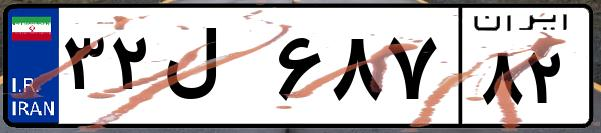2: (525, 38, 570, 115), (110, 28, 158, 98)
3: (57, 26, 110, 100)
6: (270, 28, 330, 110)
7: (385, 28, 445, 110)
8: (330, 28, 385, 110), (475, 38, 525, 113)
ل: (158, 20, 270, 120)
